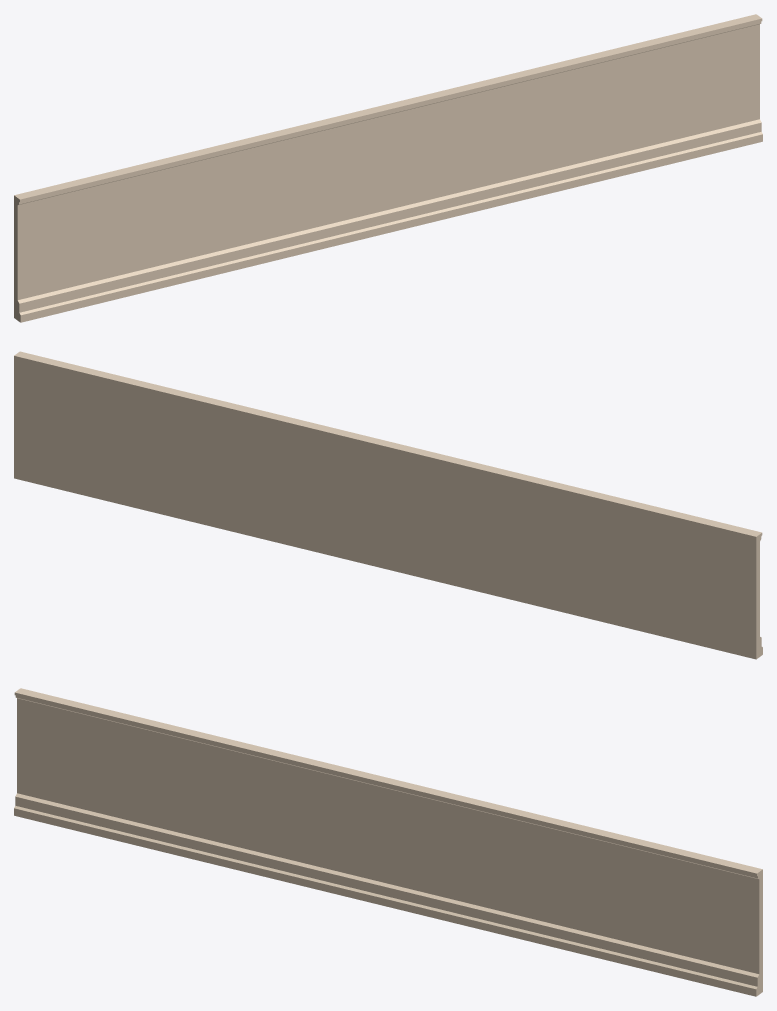
Rendered from BC_Wall_D.fbx.
3 views of the same model, one above another, from view 1: azimuth 30°, elevation 25°; view 2: azimuth 150°, elevation 25°; view 3: azimuth 330°, elevation 25° (orthographic).
Parts seen in each view (by area): view 1: BC_Wall_D; view 2: BC_Wall_D; view 3: BC_Wall_D.
Boxes of the visible parts, x1,y1,x2,y2 form: BC_Wall_D: (14, 14, 762, 322); BC_Wall_D: (14, 351, 762, 659); BC_Wall_D: (14, 688, 762, 996).
Bounding box in the file's own units: 6333 × 1000 × 98.27.
